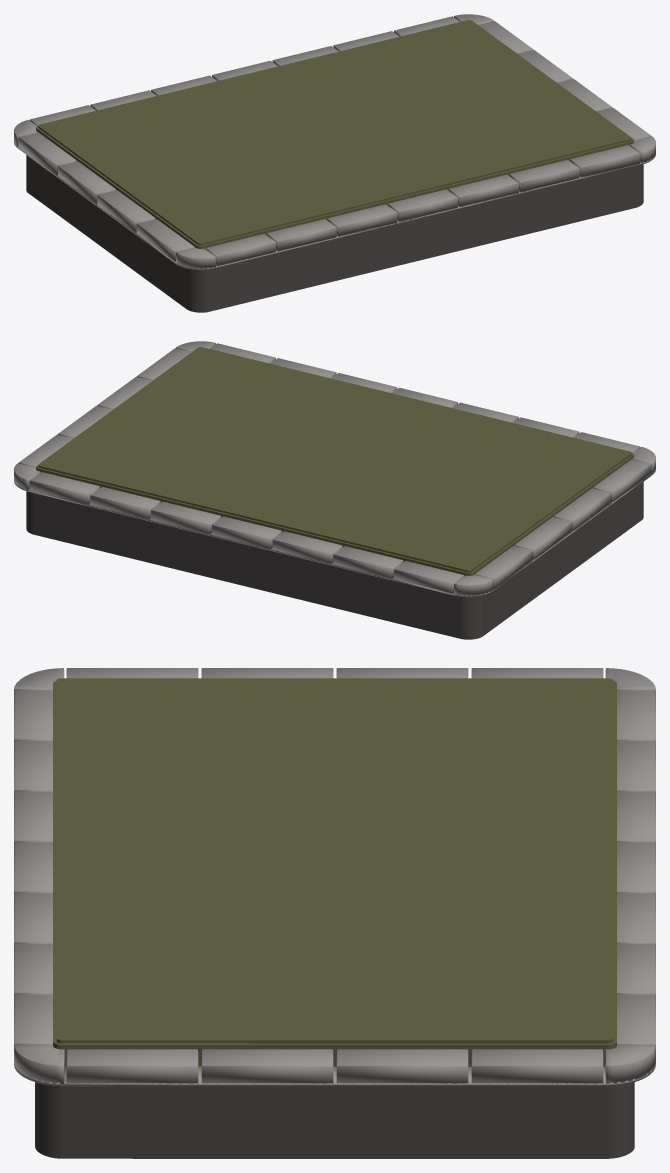
The model's file is 23-plinth-base.glb.
3 renders of one model, top to bottom at view 1: azimuth 30°, elevation 25°; view 2: azimuth 150°, elevation 25°; view 3: azimuth 270°, elevation 25°, orthographic. The views are drawn at different scales.
Parts seen in each view (by area): view 1: green, body, rim; view 2: green, body, rim; view 3: green, rim, body.
Part boxes in pixels (box(x1,y1,x2,y2)): green: box(36, 20, 633, 248); body: box(26, 155, 643, 312); rim: box(14, 14, 655, 270); green: box(36, 347, 633, 576); body: box(26, 482, 643, 639); rim: box(14, 341, 655, 597); green: box(53, 678, 616, 1066); rim: box(14, 668, 655, 1086); body: box(35, 1082, 634, 1158).
Bounding box in the file's own units: 1.57 × 0.2015 × 1.07.
